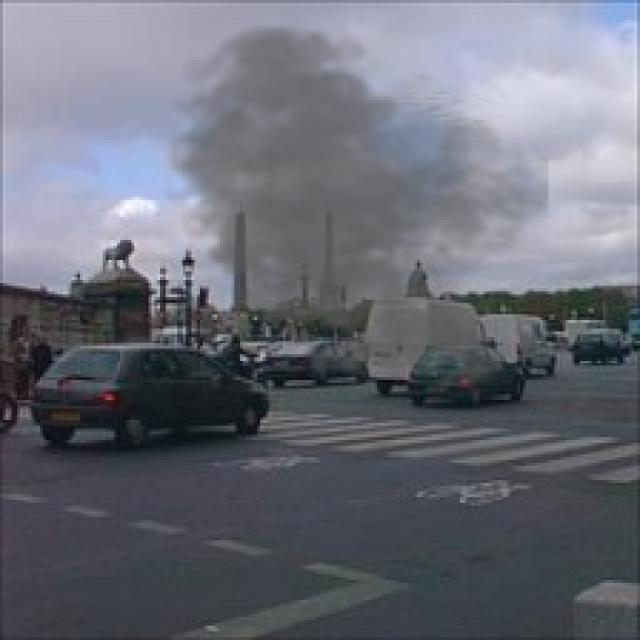Smoke: (148, 17, 548, 403)
